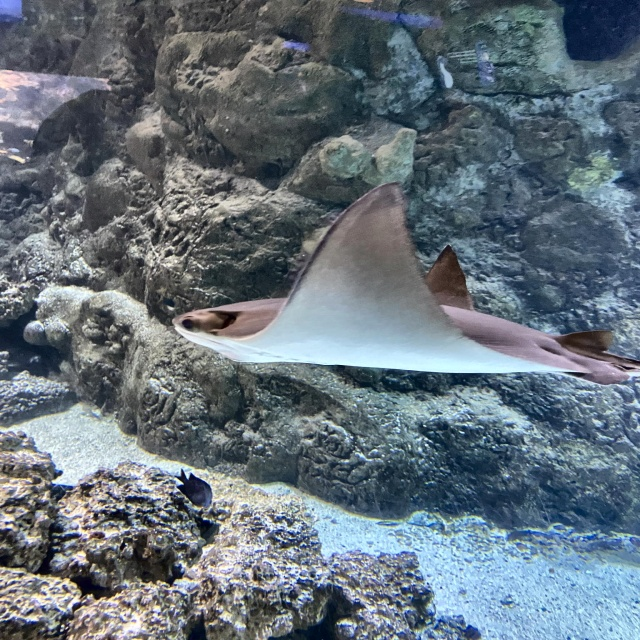fish: (177, 469, 211, 505)
stingray: (171, 179, 638, 385)
